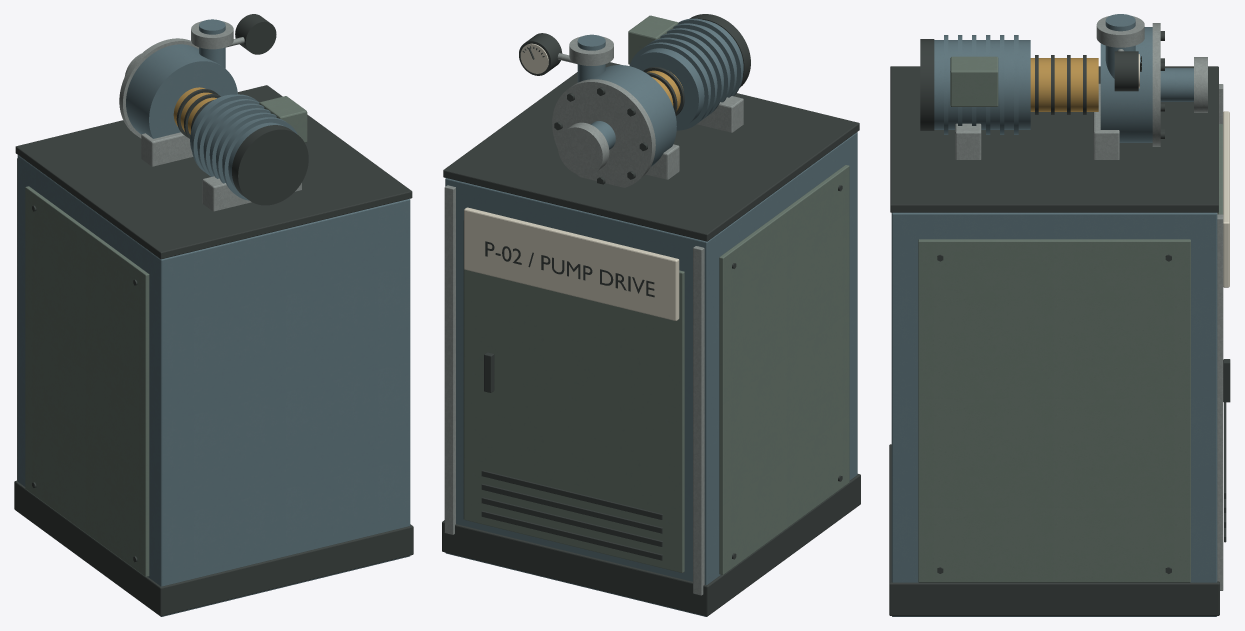
File: foundation_pump_machine.glb
3 views of the same model, side by side, from view 1: azimuth 30°, elevation 25°; view 2: azimuth 150°, elevation 25°; view 3: azimuth 270°, elevation 25° (orthographic). The views are drawn at different scales.
Visible parts, largest first — view 1: foundation_pump_machine / power_pump_bluegray, foundation_pump_machine / power_blackened_steel, foundation_pump_machine / power_sage_enamel, foundation_pump_machine / power_galvanized, foundation_pump_machine / power_isolation_ochre; view 2: foundation_pump_machine / power_sage_enamel, foundation_pump_machine / power_blackened_steel, foundation_pump_machine / power_pump_bluegray, foundation_pump_machine / power_galvanized, foundation_pump_machine / power_instrument_ivory; view 3: foundation_pump_machine / power_sage_enamel, foundation_pump_machine / power_blackened_steel, foundation_pump_machine / power_pump_bluegray, foundation_pump_machine / power_galvanized, foundation_pump_machine / power_isolation_ochre, foundation_pump_machine / power_instrument_ivory.
Boxes of the visible parts, x1,y1,x2,y2 form: foundation_pump_machine / power_pump_bluegray: [17, 19, 410, 616]; foundation_pump_machine / power_blackened_steel: [14, 14, 413, 616]; foundation_pump_machine / power_sage_enamel: [25, 96, 307, 576]; foundation_pump_machine / power_galvanized: [17, 21, 301, 480]; foundation_pump_machine / power_isolation_ochre: [173, 87, 216, 134]; foundation_pump_machine / power_sage_enamel: [463, 15, 849, 574]; foundation_pump_machine / power_blackened_steel: [442, 14, 860, 616]; foundation_pump_machine / power_pump_bluegray: [445, 18, 857, 616]; foundation_pump_machine / power_galvanized: [444, 36, 743, 595]; foundation_pump_machine / power_instrument_ivory: [464, 43, 679, 320]; foundation_pump_machine / power_sage_enamel: [918, 56, 1222, 582]; foundation_pump_machine / power_blackened_steel: [889, 31, 1230, 615]; foundation_pump_machine / power_pump_bluegray: [891, 14, 1217, 616]; foundation_pump_machine / power_galvanized: [955, 16, 1223, 590]; foundation_pump_machine / power_isolation_ochre: [1030, 58, 1098, 111]; foundation_pump_machine / power_instrument_ivory: [1138, 54, 1229, 287].
Bounding box in the file's own units: 1.69 × 2.99 × 1.7.
6 materials, 3 textured.
